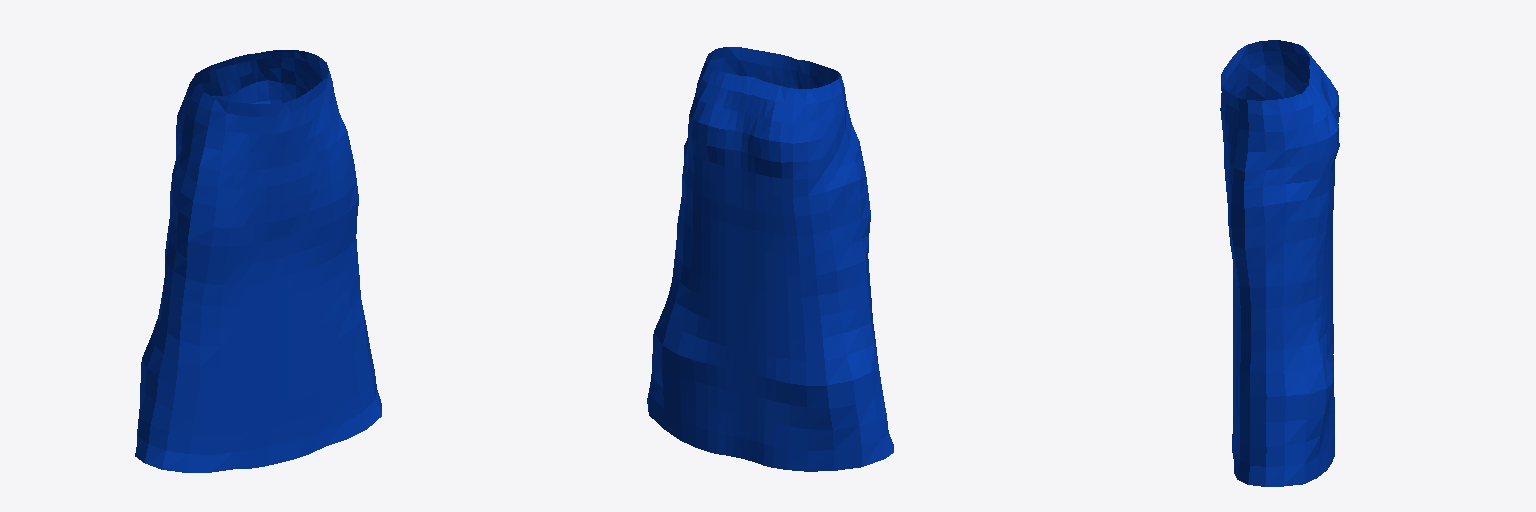
The model's file is skirt.obj.
3 views of the same model, side by side, from view 1: azimuth 30°, elevation 25°; view 2: azimuth 150°, elevation 25°; view 3: azimuth 270°, elevation 25° (orthographic).
Parts seen in each view (by area): view 1: Human_001_a8_v74_001; view 2: Human_001_a8_v74_001; view 3: Human_001_a8_v74_001.
Boxes of the visible parts, x1,y1,x2,y2 form: Human_001_a8_v74_001: [135, 50, 381, 472]; Human_001_a8_v74_001: [647, 47, 893, 471]; Human_001_a8_v74_001: [1220, 40, 1339, 486].
Bounding box in the file's own units: 6 × 9.12 × 2.6.